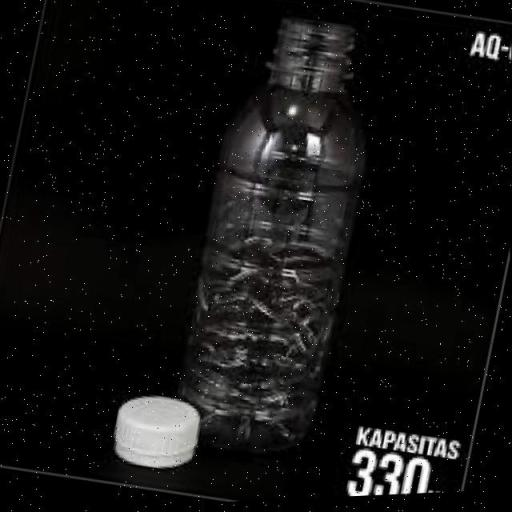plastic: (160, 2, 402, 479)
